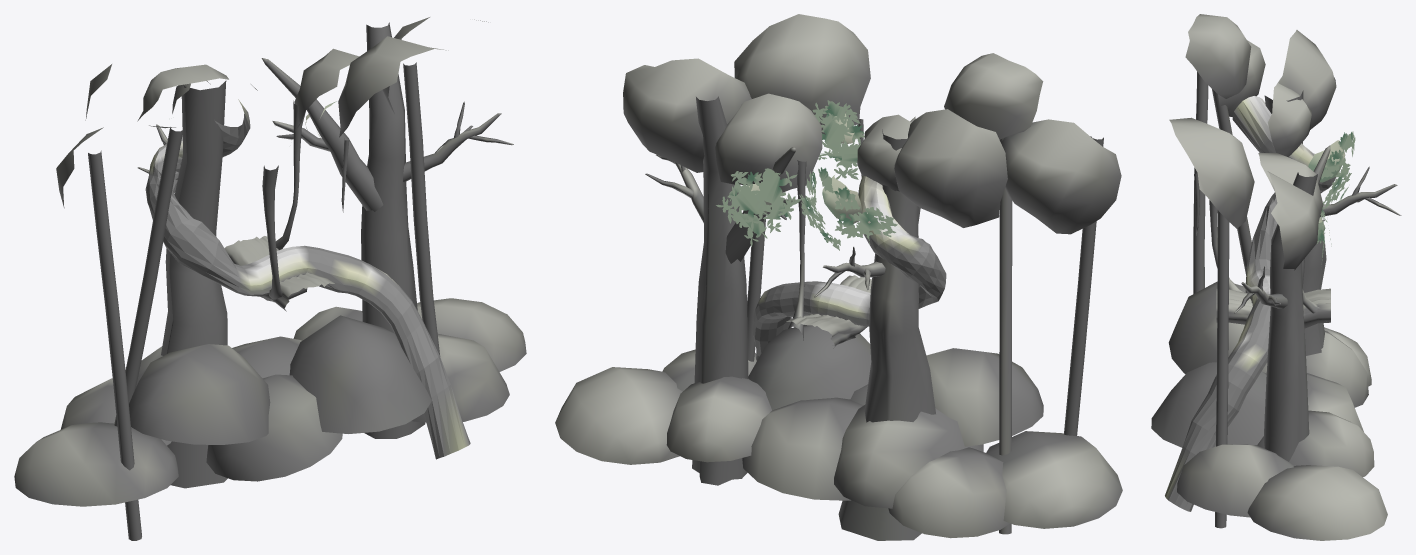
Rendered from Jungle_Canopy_Straight_Jump_C_Snake_A.glb.
The picture shows the model from 3 angles, left to right: view 1: azimuth 30°, elevation 25°; view 2: azimuth 150°, elevation 25°; view 3: azimuth 270°, elevation 25°; orthographic projection. The views are drawn at different scales.
Visible parts, largest first — view 1: Jungle_Canopy_Straight_Jump_C_Snake_A, Canopy_Jump_C_Snake_A; view 2: Jungle_Canopy_Straight_Jump_C_Snake_A, Canopy_Jump_C_Snake_A; view 3: Jungle_Canopy_Straight_Jump_C_Snake_A, Canopy_Jump_C_Snake_A.
Part boxes in pixels (<box>): Jungle_Canopy_Straight_Jump_C_Snake_A: <box>14,17,526,540</box>; Canopy_Jump_C_Snake_A: <box>145,99,470,459</box>; Jungle_Canopy_Straight_Jump_C_Snake_A: <box>555,14,1122,540</box>; Canopy_Jump_C_Snake_A: <box>752,116,946,361</box>; Jungle_Canopy_Straight_Jump_C_Snake_A: <box>1151,14,1401,540</box>; Canopy_Jump_C_Snake_A: <box>1165,96,1336,511</box>.
Size of what is drawn, in the model's own units: 37.48 by 30.43 by 17.52.
